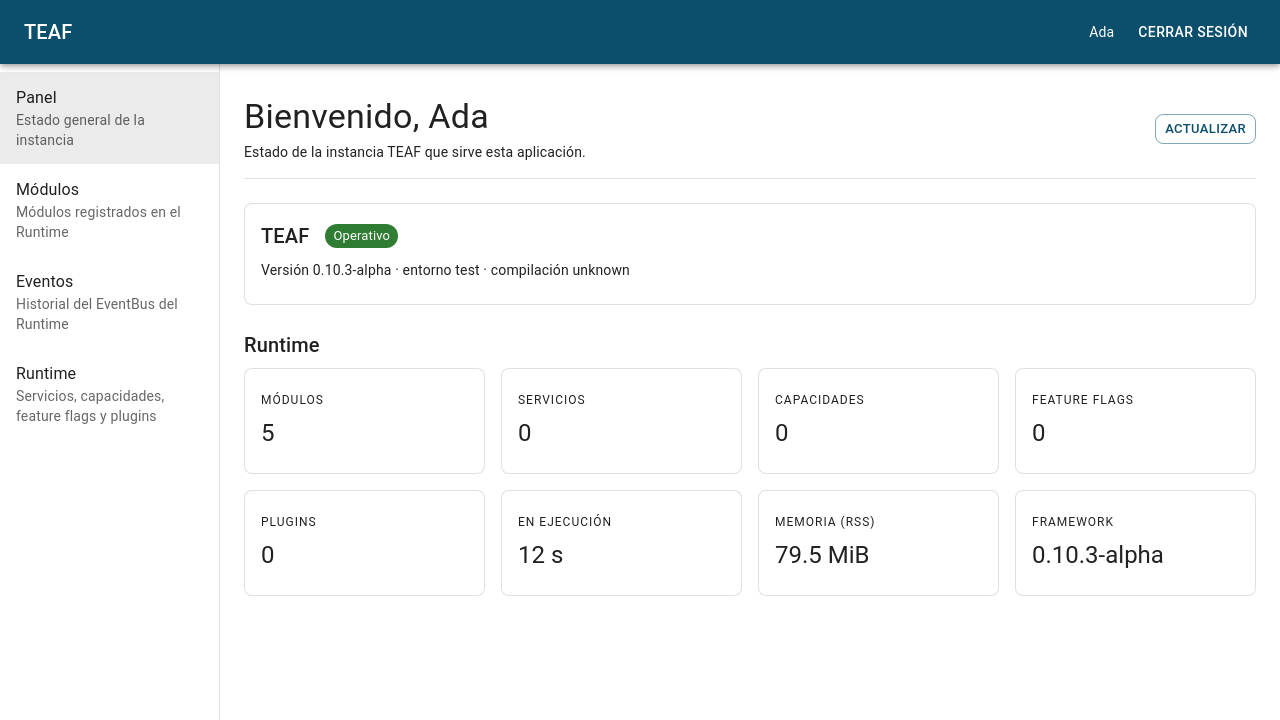
it: Navegación › cierra la sesión desde la cabecera
Expected: the heading "Bienvenido, Ada" is shown, [244,96,489,136]
Click the button "Cerrar sesión".
click(1193, 32)  # box [1130,14,1256,50]
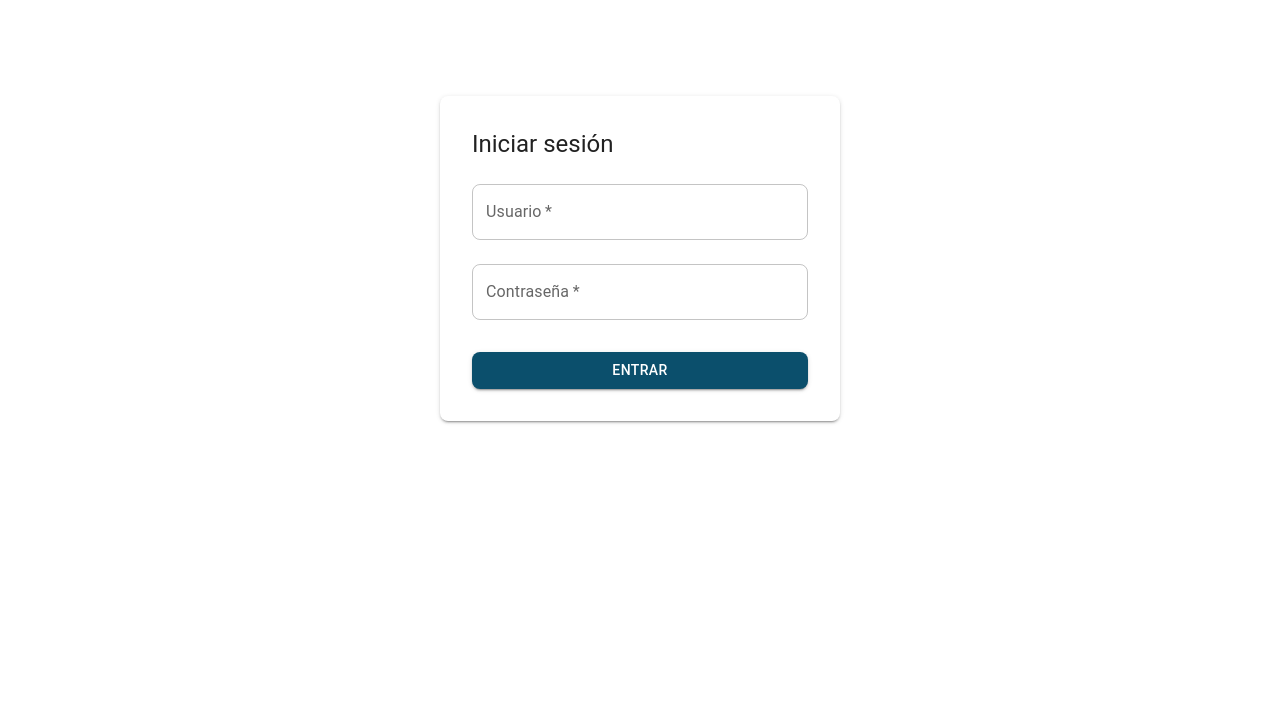
Expected: the heading "Iniciar sesión" is shown, [472,130,613,158]
